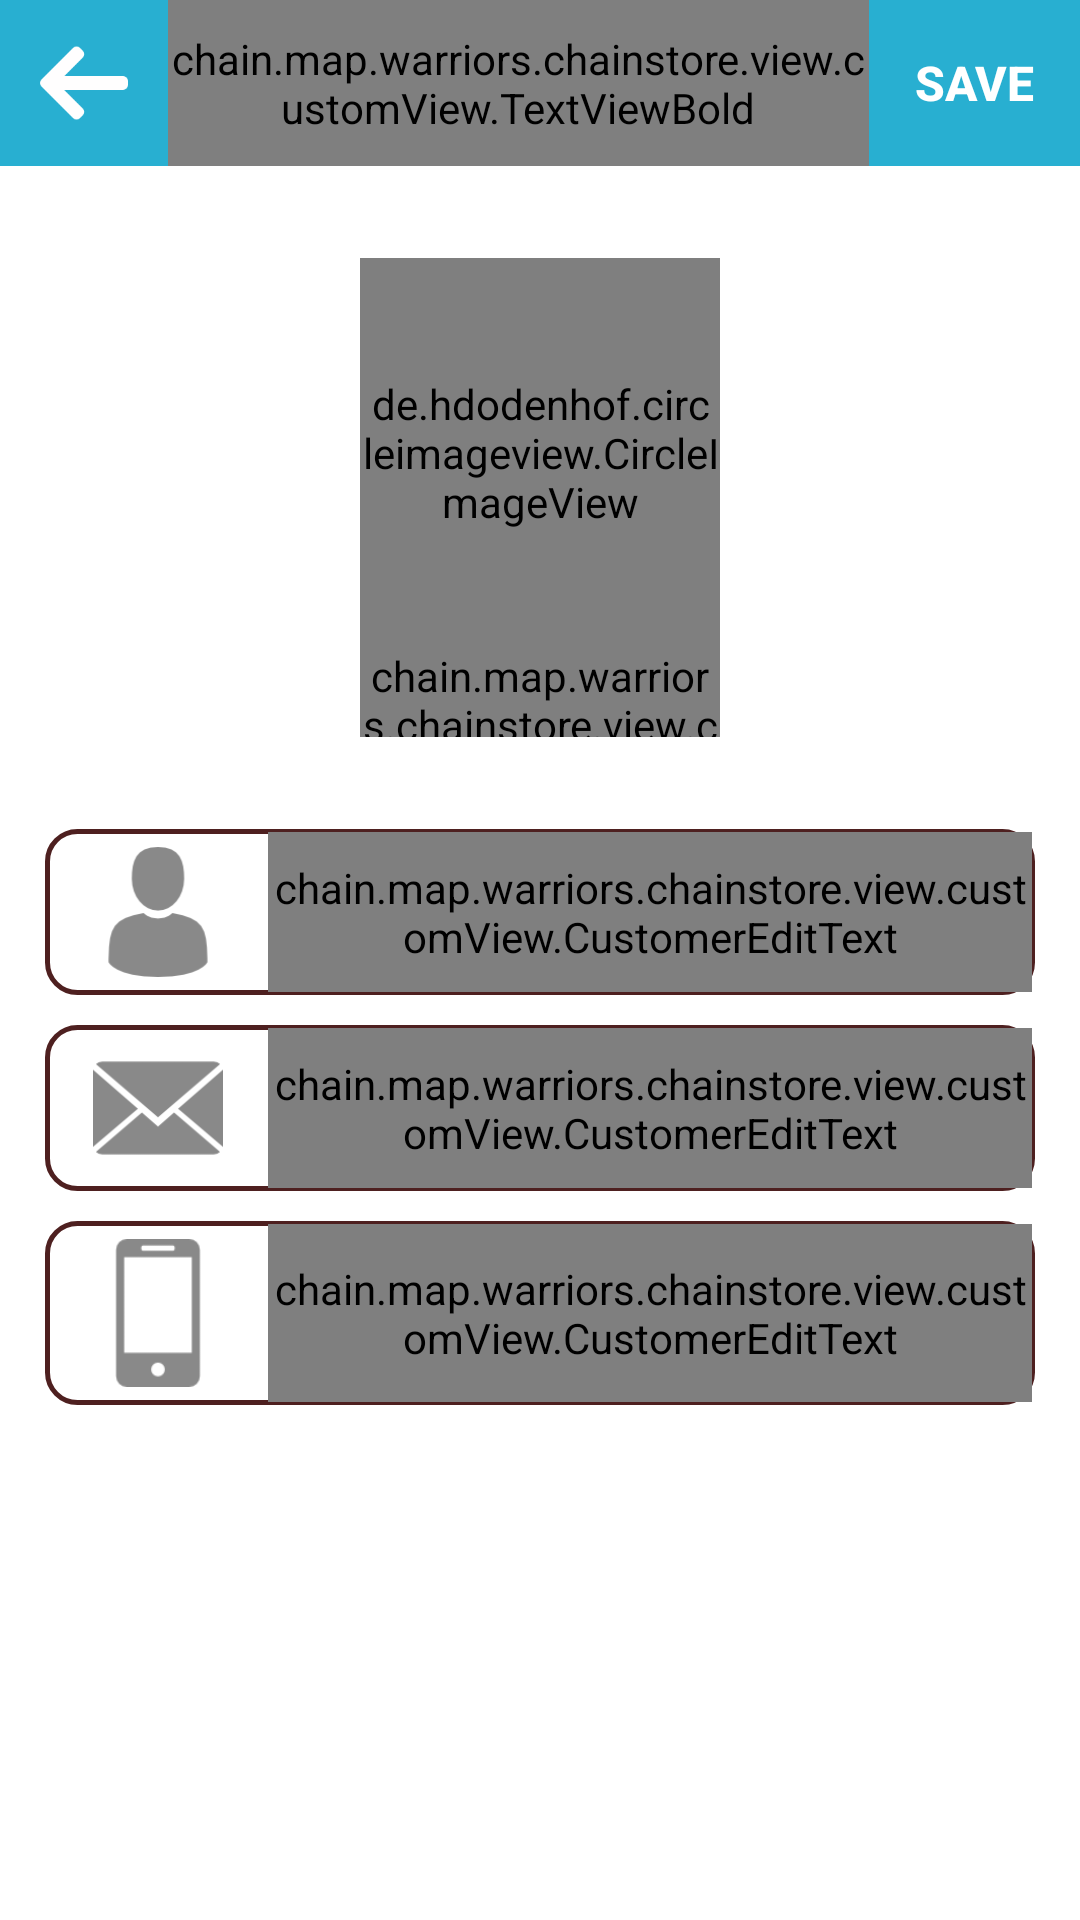

Locate icon controls on the screen. Image size 1080×1920, boxes as (x1, y1, x2, y2).
back: (40, 46, 128, 120)
user: (108, 847, 208, 977)
